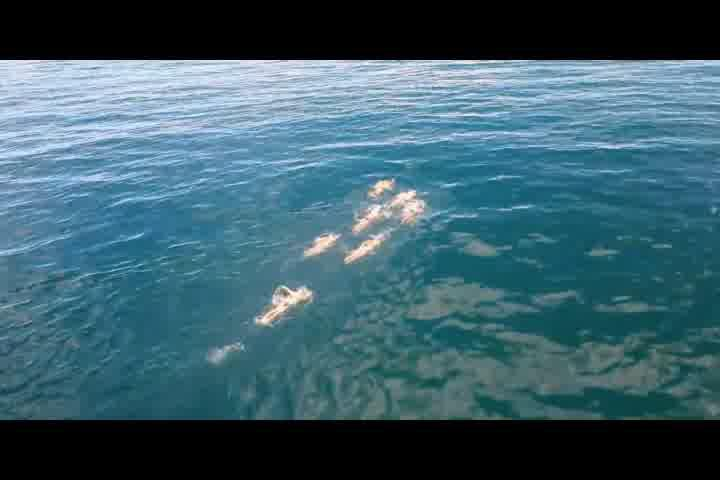swimmer: (257, 284, 308, 330), (344, 236, 382, 264), (305, 234, 336, 259)
